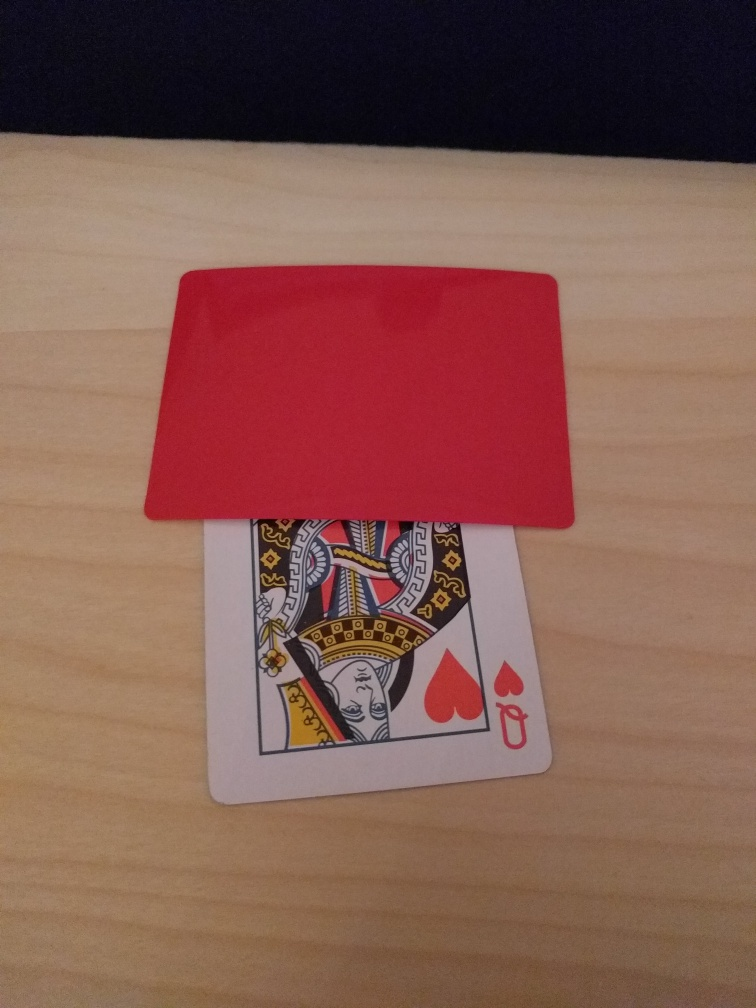queen: (204, 518, 553, 807)
